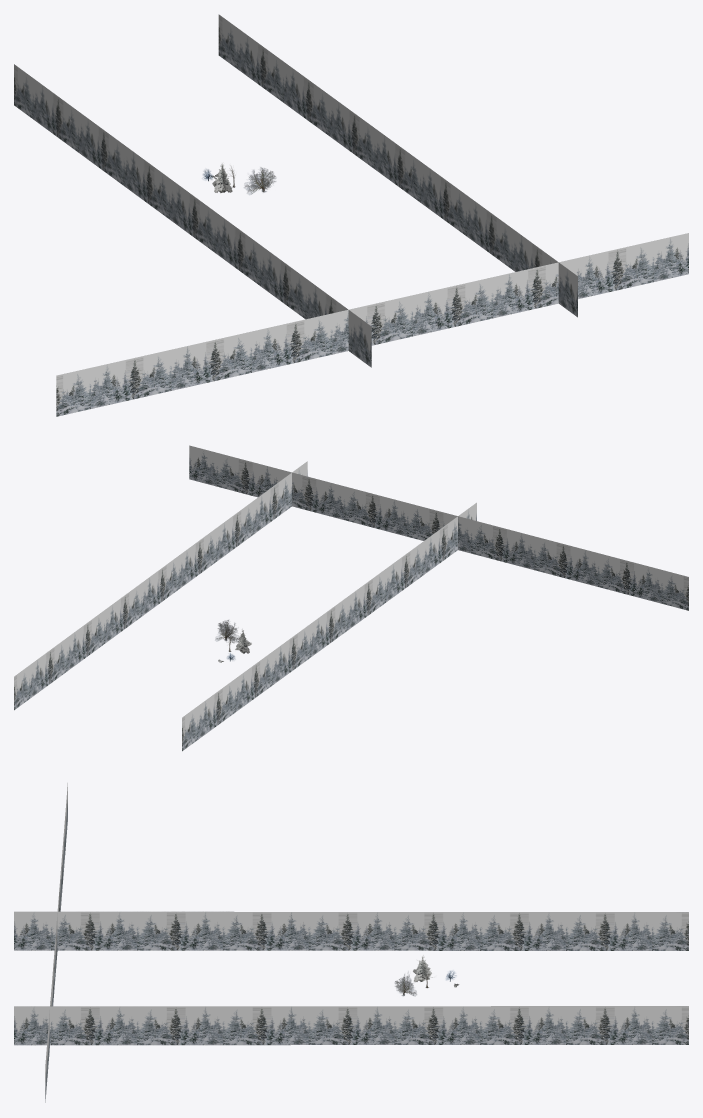
Rendered from trees.glb.
3 renders of one model, top to bottom at view 1: azimuth 30°, elevation 25°; view 2: azimuth 150°, elevation 25°; view 3: azimuth 270°, elevation 25°, orthographic. The views are drawn at different scales.
Parts seen in each view (by area): view 1: treeline_treeline_0; view 2: treeline_treeline_0; view 3: treeline_treeline_0.
Part boxes in pixels (box(x1,y1,x2,y2)): treeline_treeline_0: box(14, 14, 688, 416); treeline_treeline_0: box(14, 445, 688, 751); treeline_treeline_0: box(14, 783, 688, 1102).
Size of the model in its own units: 469 by 31.06 by 469.
Materials: 6 (6 with a texture image).
